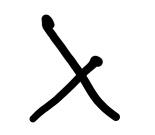mult: (30, 14, 120, 123)
